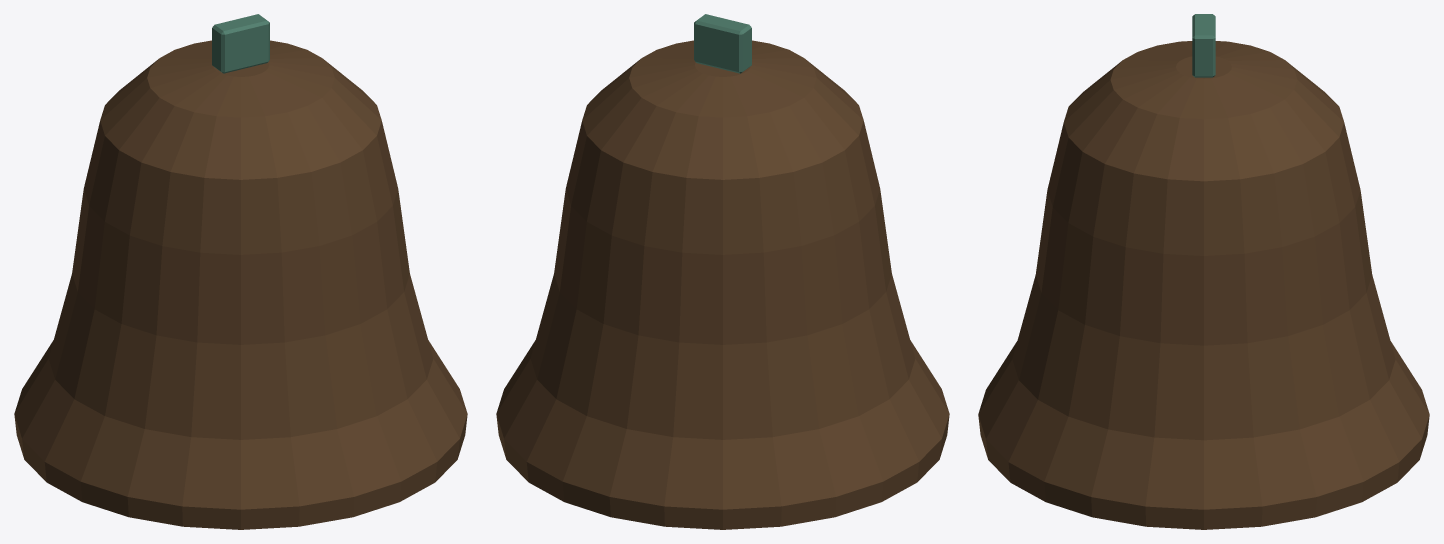
The model's file is Prop_Lab_EchoBell_S10.glb.
3 renders of one model, left to right at view 1: azimuth 30°, elevation 25°; view 2: azimuth 150°, elevation 25°; view 3: azimuth 270°, elevation 25°, orthographic.
Visible parts, largest first — view 1: Prop_Lab_EchoBell_S10; view 2: Prop_Lab_EchoBell_S10; view 3: Prop_Lab_EchoBell_S10.
Part boxes in pixels (box(x1,y1,x2,y2)): Prop_Lab_EchoBell_S10: box(14, 14, 467, 529); Prop_Lab_EchoBell_S10: box(496, 14, 949, 529); Prop_Lab_EchoBell_S10: box(978, 14, 1429, 529).
Size of what is drawn, in the model's own units: 0.6306 by 0.6333 by 0.6306.
